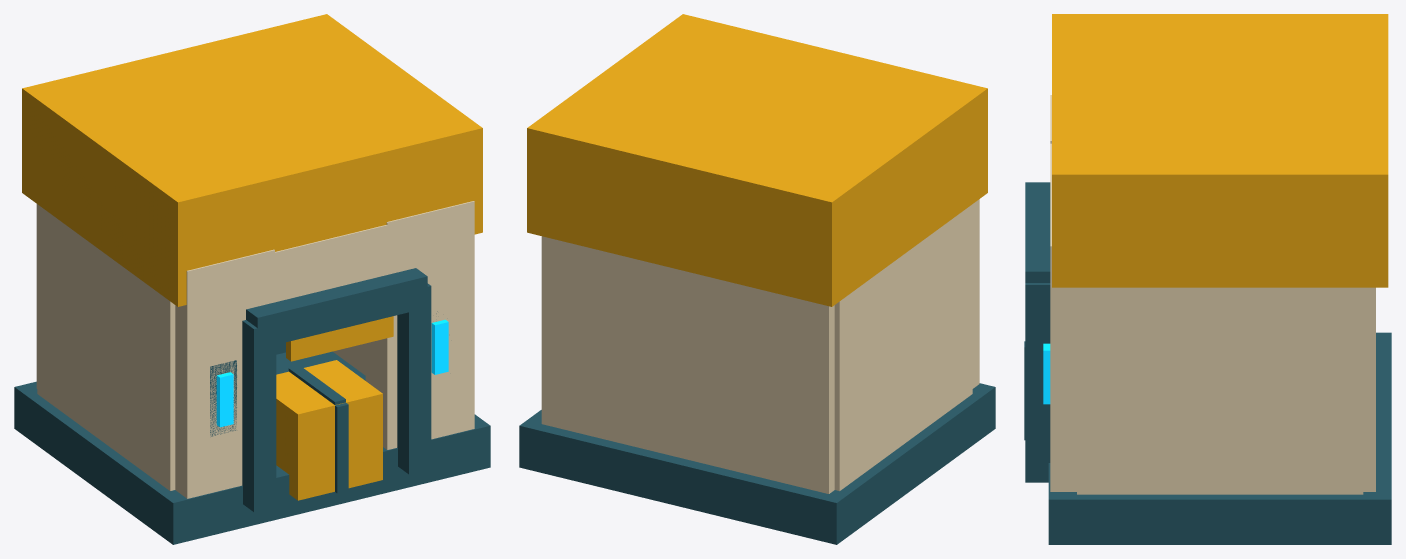
File: storage.glb
3 views of the same model, side by side, from view 1: azimuth 30°, elevation 25°; view 2: azimuth 150°, elevation 25°; view 3: azimuth 270°, elevation 25° (orthographic). The views are drawn at different scales.
Visible parts, largest first — view 1: Golden roof, Storage left wall, Storage foundation, Storage front left, Storage front right, Cargo, Storage front lintel, Door frame header, Door jamb, Door jamb.001, Door top shutter, Cargo strap (+5 smaller); view 2: Golden roof, Storage back wall, Storage left wall, Storage foundation, Storage front left; view 3: Golden roof, Storage right wall, Storage foundation, Storage front right, Door jamb.001, Storage back wall, Door frame header, Storage indicator.001.
Part boxes in pixels (<box>): Golden roof: <box>22,14,482,306</box>; Storage left wall: <box>37,204,175,490</box>; Storage foundation: <box>14,351,490,544</box>; Storage front left: <box>175,249,274,498</box>; Storage front right: <box>365,201,474,449</box>; Cargo: <box>276,360,382,500</box>; Storage front lintel: <box>253,220,408,307</box>; Door frame header: <box>246,268,427,348</box>; Door jamb: <box>242,320,276,512</box>; Door jamb.001: <box>397,283,431,474</box>; Door top shutter: <box>286,316,393,361</box>; Cargo strap: <box>335,403,348,493</box>; Golden roof: <box>527,14,987,306</box>; Storage back wall: <box>541,236,834,493</box>; Storage left wall: <box>834,204,972,490</box>; Storage foundation: <box>519,383,995,544</box>; Storage front left: <box>972,199,979,388</box>; Golden roof: <box>1052,14,1388,287</box>; Storage right wall: <box>1077,287,1363,494</box>; Storage foundation: <box>1048,332,1391,544</box>; Storage front right: <box>1050,200,1076,491</box>; Door jamb.001: <box>1025,283,1050,482</box>; Storage back wall: <box>1363,287,1375,491</box>; Door frame header: <box>1025,182,1050,282</box>; Storage indicator.001: <box>1043,343,1050,404</box>.
Bounding box in the file's own units: 1.27 × 1.3 × 1.18.
